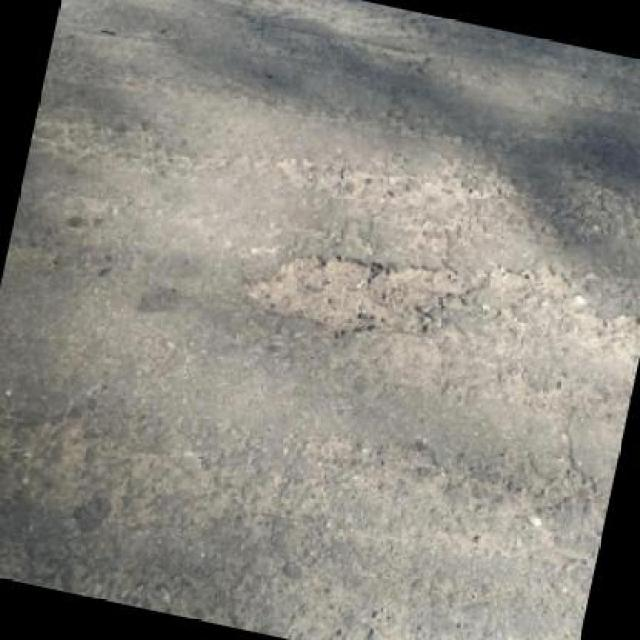pothole: (241, 227, 479, 364)
